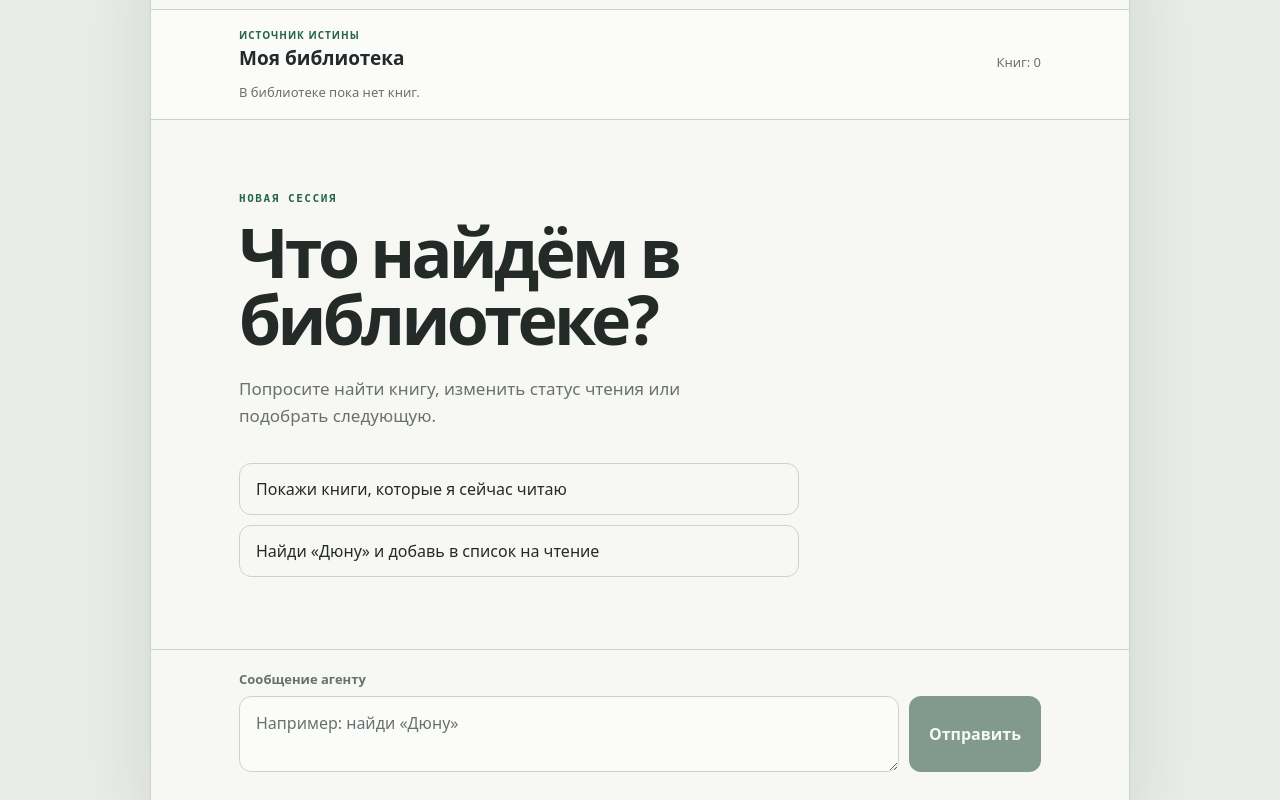
Test: Book Agent chat › renders an explicit completed state
(page scrolled)
In the text box labelled "Сообщение агенту": (569, 734) [239, 696, 899, 772], type "Найди Дюну"
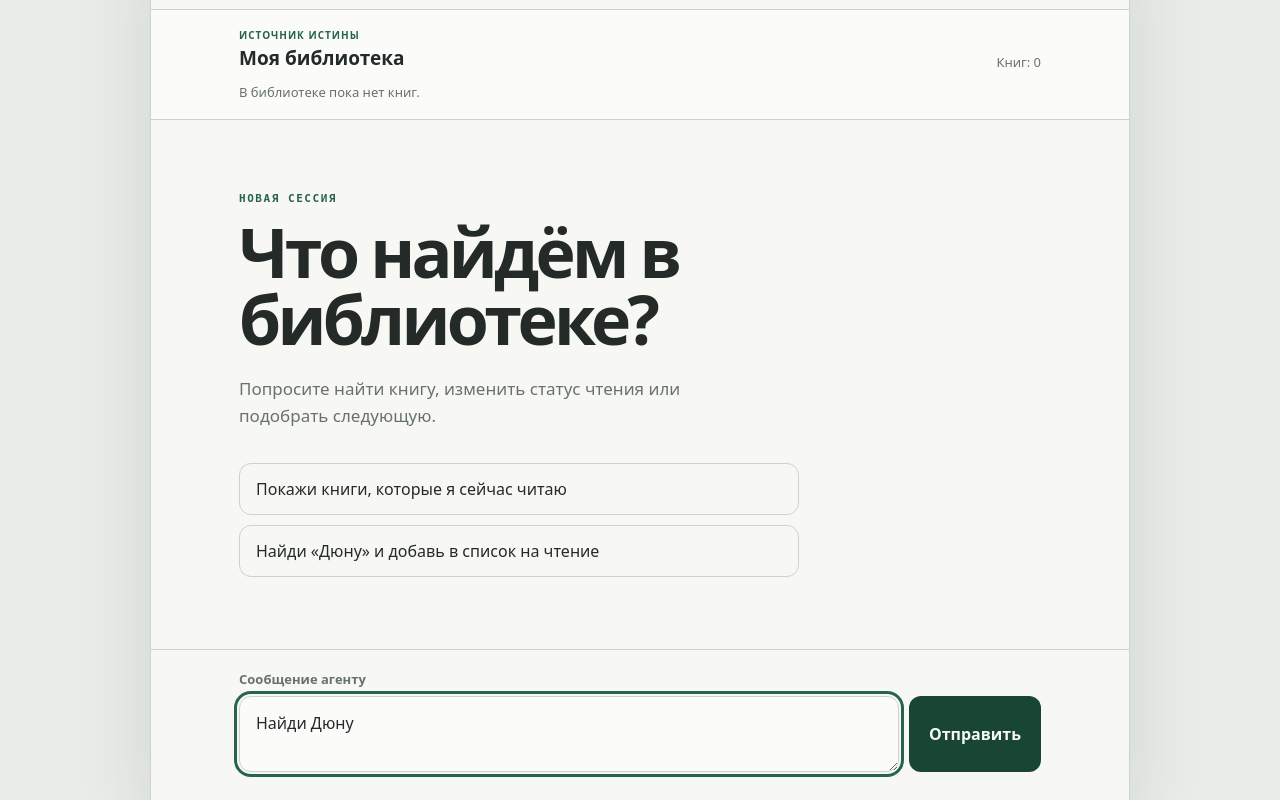
Click the button "Отправить": (975, 734) [909, 696, 1041, 772]
(page scrolled)
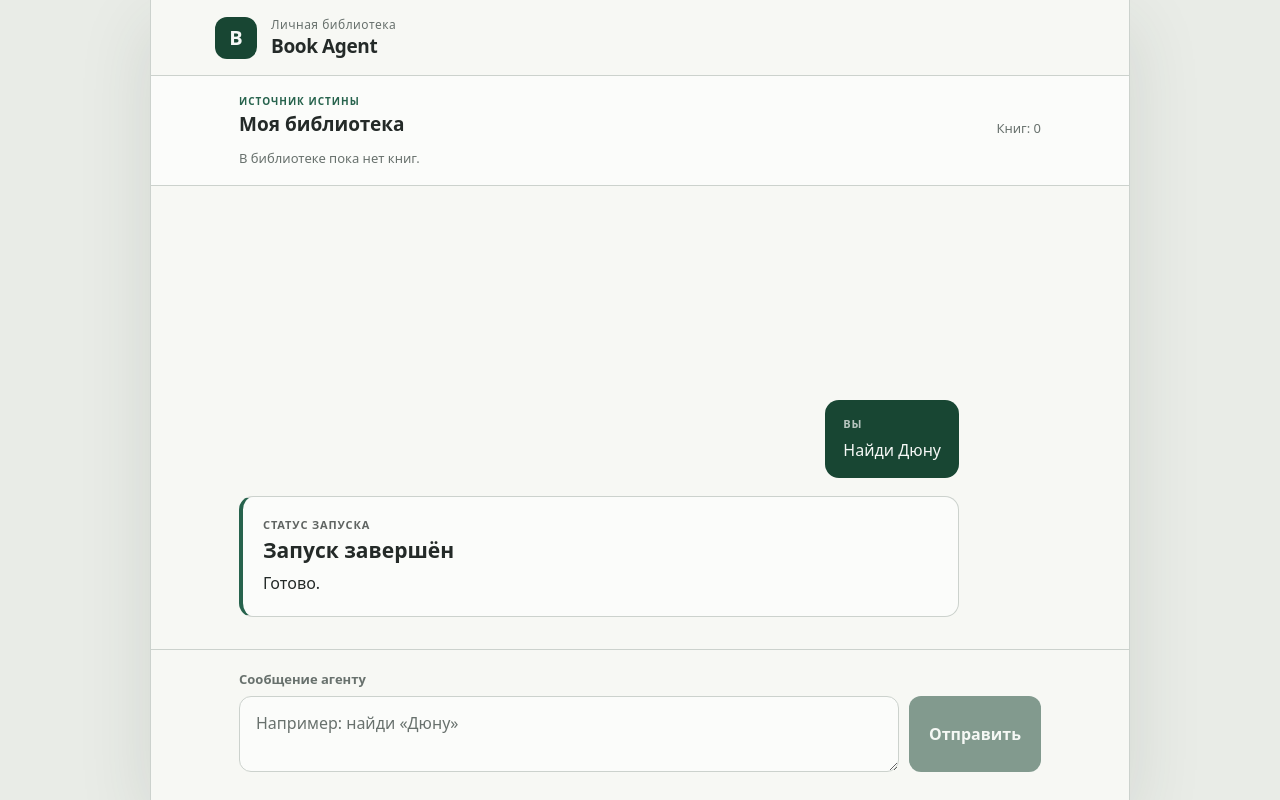
Expected: the heading "Запуск завершён" is shown, [263, 536, 454, 564]
